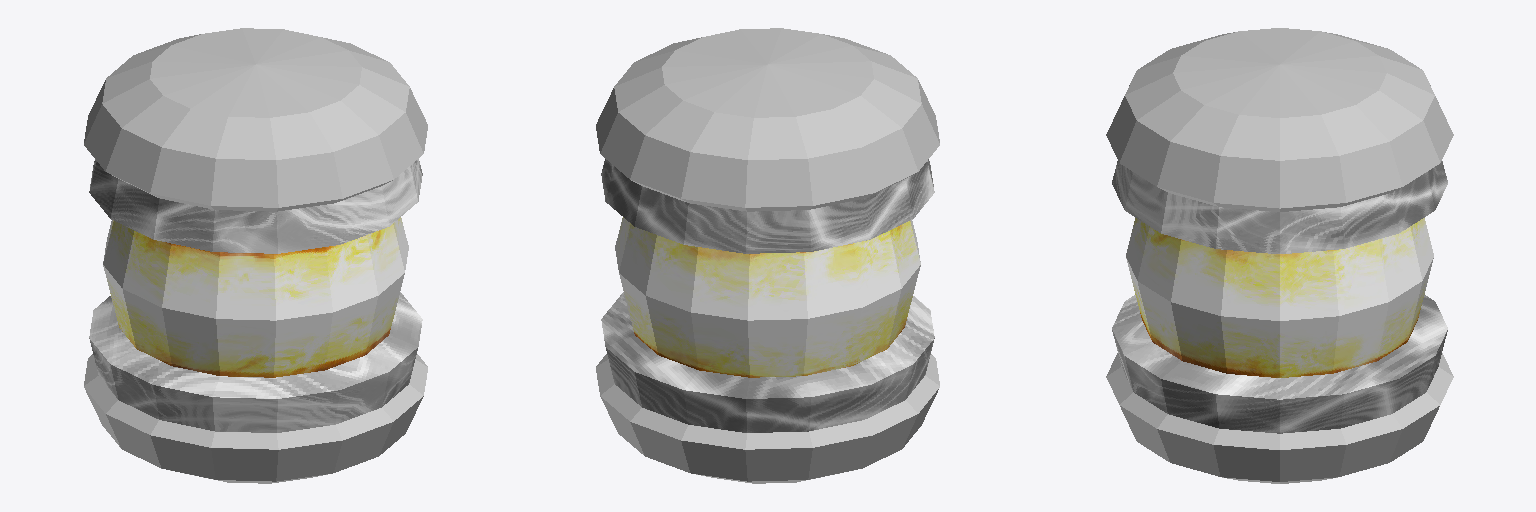
The picture shows the model from 3 angles: view 1: azimuth 30°, elevation 25°; view 2: azimuth 150°, elevation 25°; view 3: azimuth 270°, elevation 25°; orthographic projection.
Visible parts, largest first — view 1: Cylinder.001_Cylinder.017; view 2: Cylinder.001_Cylinder.017; view 3: Cylinder.001_Cylinder.017.
Part boxes in pixels (x1,y1,x2,y2): Cylinder.001_Cylinder.017: (84, 28, 427, 483); Cylinder.001_Cylinder.017: (596, 28, 939, 483); Cylinder.001_Cylinder.017: (1106, 28, 1453, 483).
Bounding box in the file's own units: 0.3223 × 0.3918 × 0.3223.
Materials: 2 (1 with a texture image).